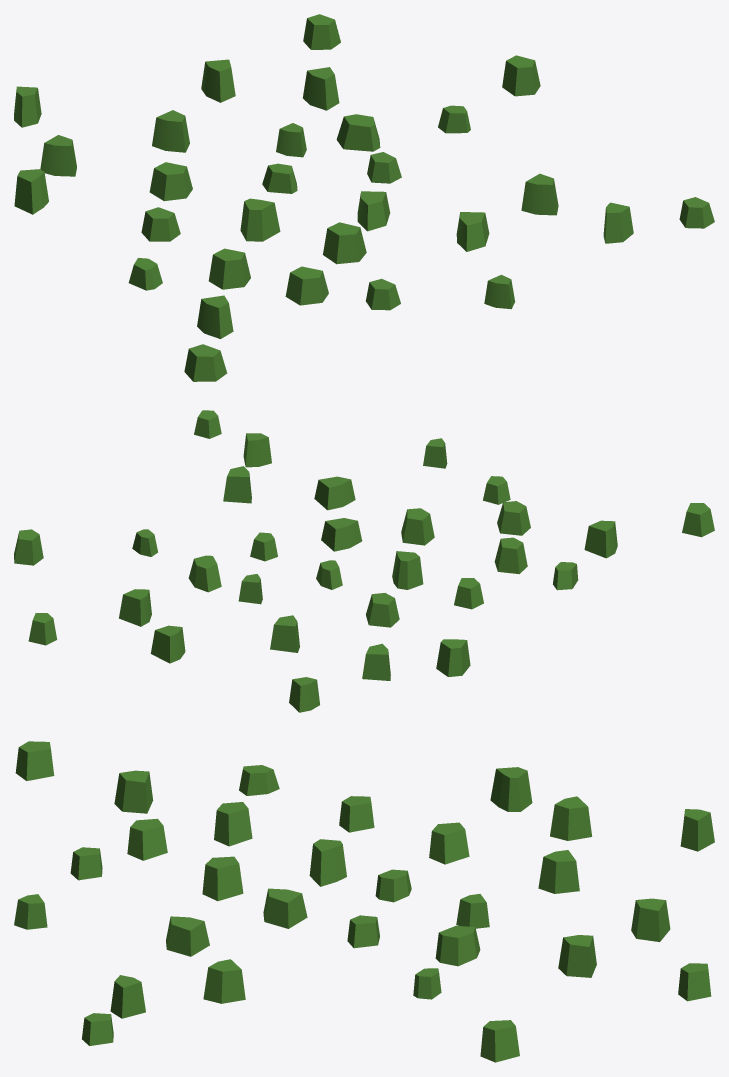
The model's file is grass_layer_crumbs_mini_set_C.fbx.
3 views of the same model, one above another, from view 1: azimuth 30°, elevation 25°; view 2: azimuth 150°, elevation 25°; view 3: azimuth 270°, elevation 25° (orthographic). The views are drawn at different scales.
Visible parts, largest first — view 1: grass_layer_crumb_spec_C10, grass_layer_crumb_spec_B4, grass_layer_crumb_spec_C5, grass_layer_crumb_spec_C3, grass_layer_crumb_spec_C2, grass_layer_crumb_spec_F5, grass_layer_crumb_spec_A2, grass_layer_crumb_spec_C11, grass_layer_crumb_spec_B5, grass_layer_crumb_spec_A14, grass_layer_crumb_spec_C7, grass_layer_crumb_spec_A4 (+17 smaller); view 2: grass_layer_crumb_spec_B5, grass_layer_crumb_spec_A6, grass_layer_crumb_spec_A8, grass_layer_crumb_spec_A10, grass_layer_crumb_spec_C10, grass_layer_crumb_spec_B4, grass_layer_crumb_spec_A5, grass_layer_crumb_spec_A3, grass_layer_crumb_spec_C5, grass_layer_crumb_spec_C2, grass_layer_crumb_spec_C3, grass_layer_crumb_spec_F5 (+17 smaller); view 3: grass_layer_crumb_spec_B5, grass_layer_crumb_spec_C10, grass_layer_crumb_spec_A14, grass_layer_crumb_spec_A4, grass_layer_crumb_spec_F5, grass_layer_crumb_spec_A2, grass_layer_crumb_spec_B4, grass_layer_crumb_spec_A10, grass_layer_crumb_spec_A3, grass_layer_crumb_spec_A5, grass_layer_crumb_spec_A6, grass_layer_crumb_spec_A8 (+17 smaller).
Part boxes in pixels (x1,y1,x2,y2): grass_layer_crumb_spec_C10: [323, 222, 366, 264]; grass_layer_crumb_spec_B4: [240, 198, 280, 241]; grass_layer_crumb_spec_C5: [208, 248, 250, 289]; grass_layer_crumb_spec_C3: [285, 266, 328, 305]; grass_layer_crumb_spec_C2: [149, 162, 192, 201]; grass_layer_crumb_spec_F5: [336, 114, 380, 151]; grass_layer_crumb_spec_A2: [152, 110, 189, 152]; grass_layer_crumb_spec_C11: [184, 344, 227, 381]; grass_layer_crumb_spec_B5: [14, 169, 48, 214]; grass_layer_crumb_spec_A14: [521, 173, 558, 215]; grass_layer_crumb_spec_C7: [502, 55, 540, 96]; grass_layer_crumb_spec_A4: [40, 135, 76, 176]; grass_layer_crumb_spec_B5: [436, 639, 470, 676]; grass_layer_crumb_spec_A6: [314, 476, 355, 510]; grass_layer_crumb_spec_A8: [321, 518, 362, 551]; grass_layer_crumb_spec_A10: [150, 625, 185, 663]; grass_layer_crumb_spec_C10: [401, 508, 434, 545]; grass_layer_crumb_spec_B4: [392, 551, 423, 589]; grass_layer_crumb_spec_A5: [584, 520, 617, 558]; grass_layer_crumb_spec_A3: [119, 589, 151, 626]; grass_layer_crumb_spec_C5: [494, 537, 527, 574]; grass_layer_crumb_spec_C2: [366, 593, 399, 627]; grass_layer_crumb_spec_C3: [497, 501, 530, 535]; grass_layer_crumb_spec_F5: [188, 555, 221, 592]; grass_layer_crumb_spec_B5: [490, 767, 532, 811]; grass_layer_crumb_spec_C10: [202, 856, 243, 901]; grass_layer_crumb_spec_A14: [203, 959, 245, 1003]; grass_layer_crumb_spec_A4: [550, 796, 592, 840]; grass_layer_crumb_spec_F5: [435, 925, 480, 966]; grass_layer_crumb_spec_A2: [538, 850, 579, 893]; grass_layer_crumb_spec_B4: [309, 839, 346, 886]; grass_layer_crumb_spec_A10: [631, 898, 670, 941]; grass_layer_crumb_spec_A3: [558, 935, 596, 977]; grass_layer_crumb_spec_A5: [114, 770, 153, 813]; grass_layer_crumb_spec_A6: [166, 916, 209, 956]; grass_layer_crumb_spec_A8: [263, 888, 307, 928].
Bounding box in the file's own units: 314 × 17.59 × 316.
